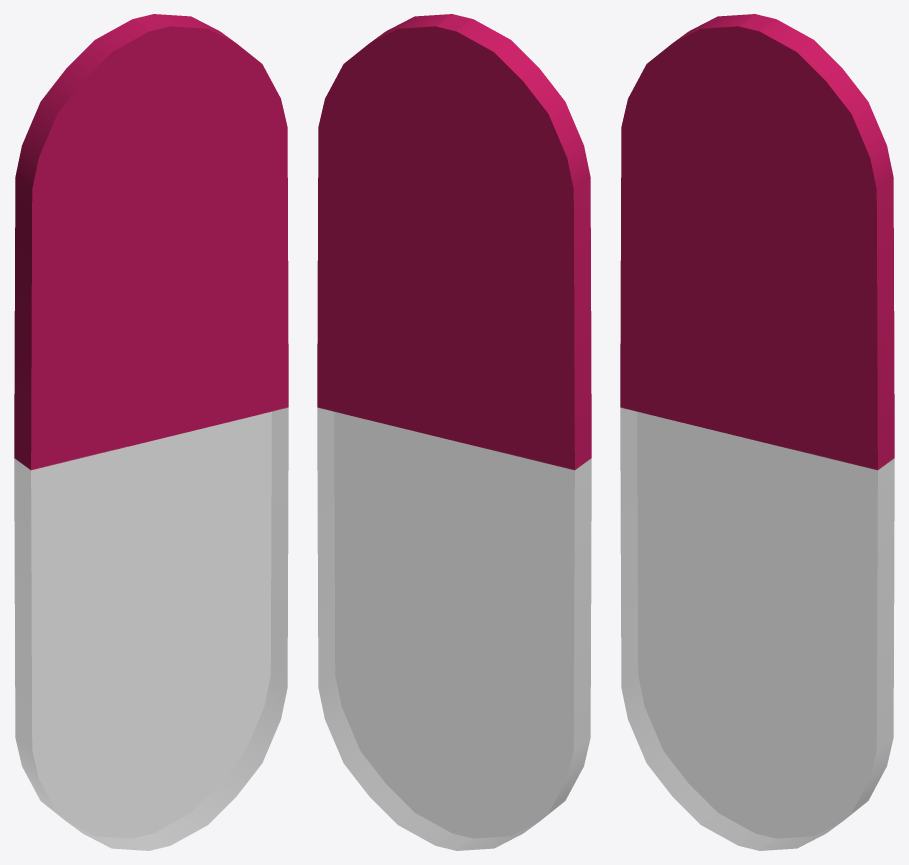
The model's file is pills.fbx.
3 renders of one model, left to right at view 1: azimuth 30°, elevation 25°; view 2: azimuth 150°, elevation 25°; view 3: azimuth 330°, elevation 25°, orthographic.
Visible parts, largest first — view 1: 立方体, 立方体_1; view 2: 立方体, 立方体_1; view 3: 立方体, 立方体_1.
Part boxes in pixels (left/top/right/bottom): 立方体: left=14, top=14, right=288, bottom=470; 立方体_1: left=14, top=407, right=288, bottom=850; 立方体: left=317, top=14, right=591, bottom=470; 立方体_1: left=317, top=407, right=591, bottom=850; 立方体: left=620, top=14, right=894, bottom=470; 立方体_1: left=620, top=407, right=894, bottom=850.
Size of the model in its own units: 11.94 by 36.27 by 1.35.
